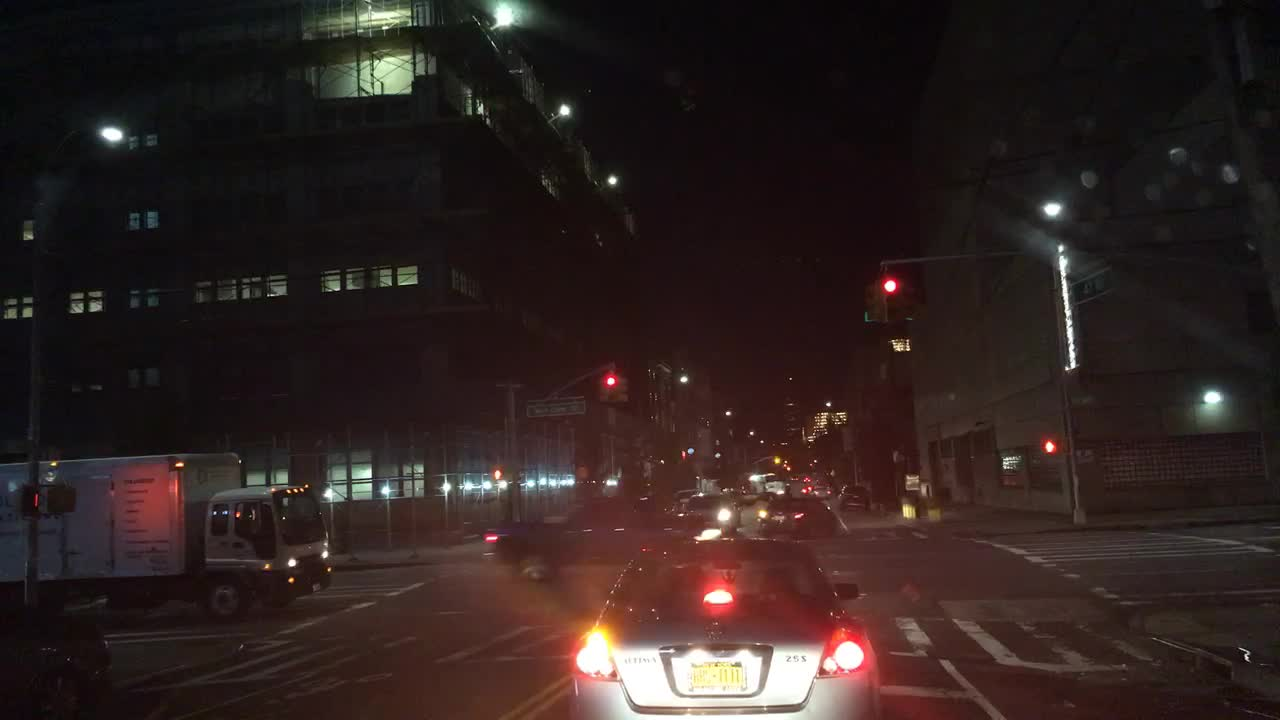car: (565, 528, 882, 716), (476, 493, 711, 579), (0, 599, 113, 718), (753, 492, 840, 539), (674, 490, 743, 537), (737, 471, 789, 501), (833, 480, 874, 511), (673, 487, 696, 505), (811, 484, 832, 499), (797, 483, 810, 497), (799, 472, 810, 485), (789, 471, 800, 483)
traffic light: (42, 483, 78, 514), (18, 481, 39, 516), (898, 277, 915, 317), (864, 280, 882, 316), (883, 276, 897, 315), (1042, 436, 1067, 455), (616, 374, 631, 404), (605, 375, 615, 402), (488, 464, 502, 481), (597, 376, 606, 401), (677, 449, 687, 460), (774, 453, 782, 466)
traffic sign: (1056, 266, 1119, 305), (525, 394, 586, 417), (1066, 394, 1091, 407)
truck: (0, 447, 334, 625)
